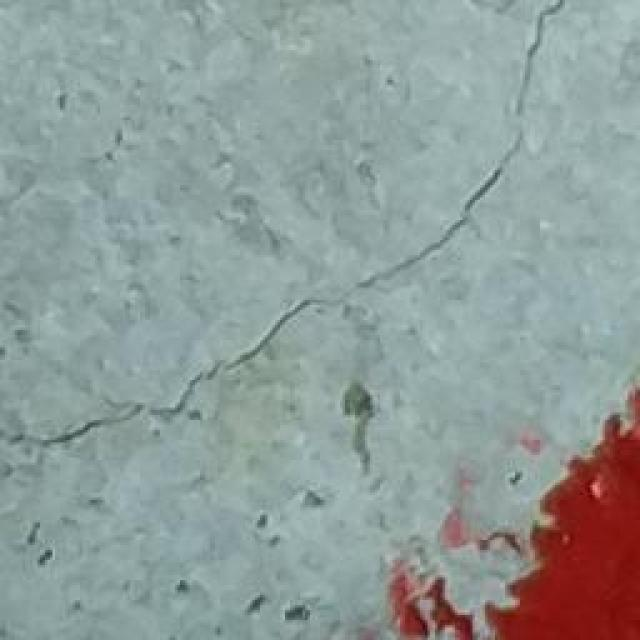Radial: (0, 0, 585, 460)
